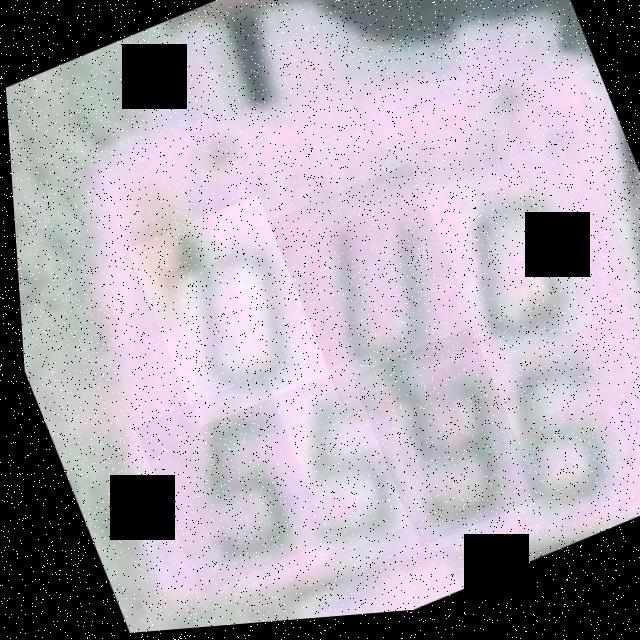5: (126, 374, 326, 600), (234, 354, 432, 576)
6: (451, 323, 640, 553)
9: (345, 331, 535, 557)
O: (122, 195, 327, 434), (410, 153, 604, 381)
U: (263, 166, 480, 412)
